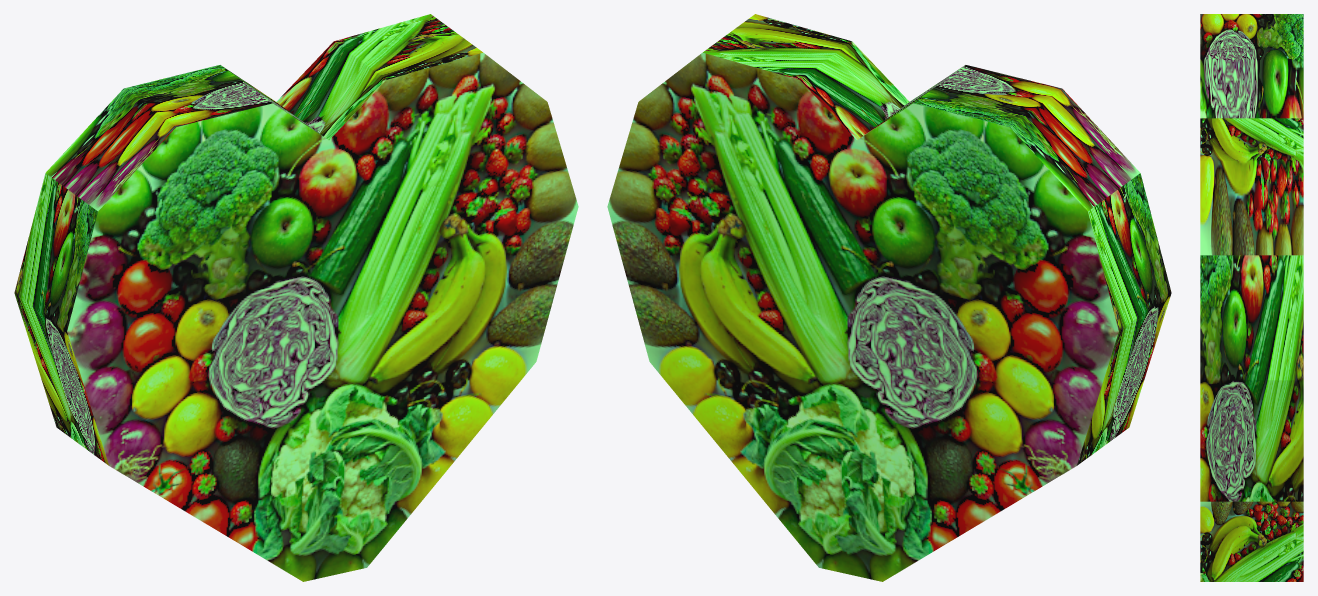
File: FoodHeart.glb
3 views of the same model, side by side, from view 1: azimuth 30°, elevation 25°; view 2: azimuth 150°, elevation 25°; view 3: azimuth 270°, elevation 25° (orthographic). The views are drawn at different scales.
Visible parts, largest first — view 1: Cube; view 2: Cube; view 3: Cube.
Boxes of the visible parts, <box> form: Cube: <box>14,14,578,581</box>; Cube: <box>607,14,1171,581</box>; Cube: <box>1200,14,1303,581</box>.
Bounding box in the file's own units: 1.83 × 1.67 × 0.3266.
1 material, 1 textured.
